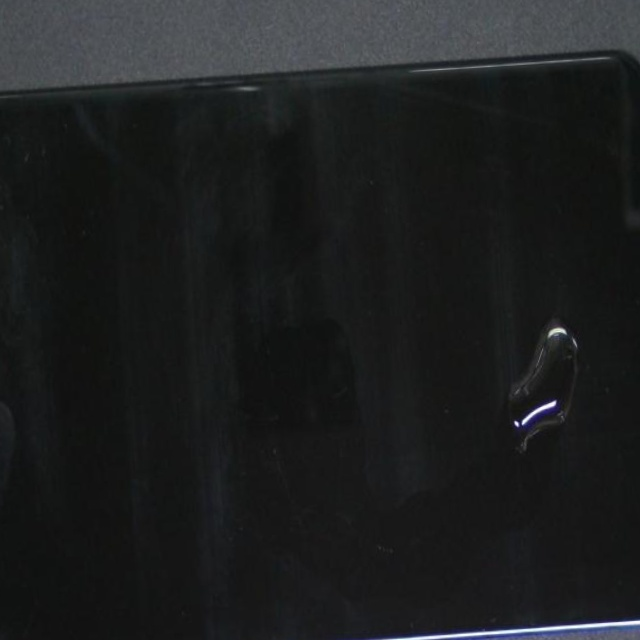oil: (268, 148, 640, 532)
